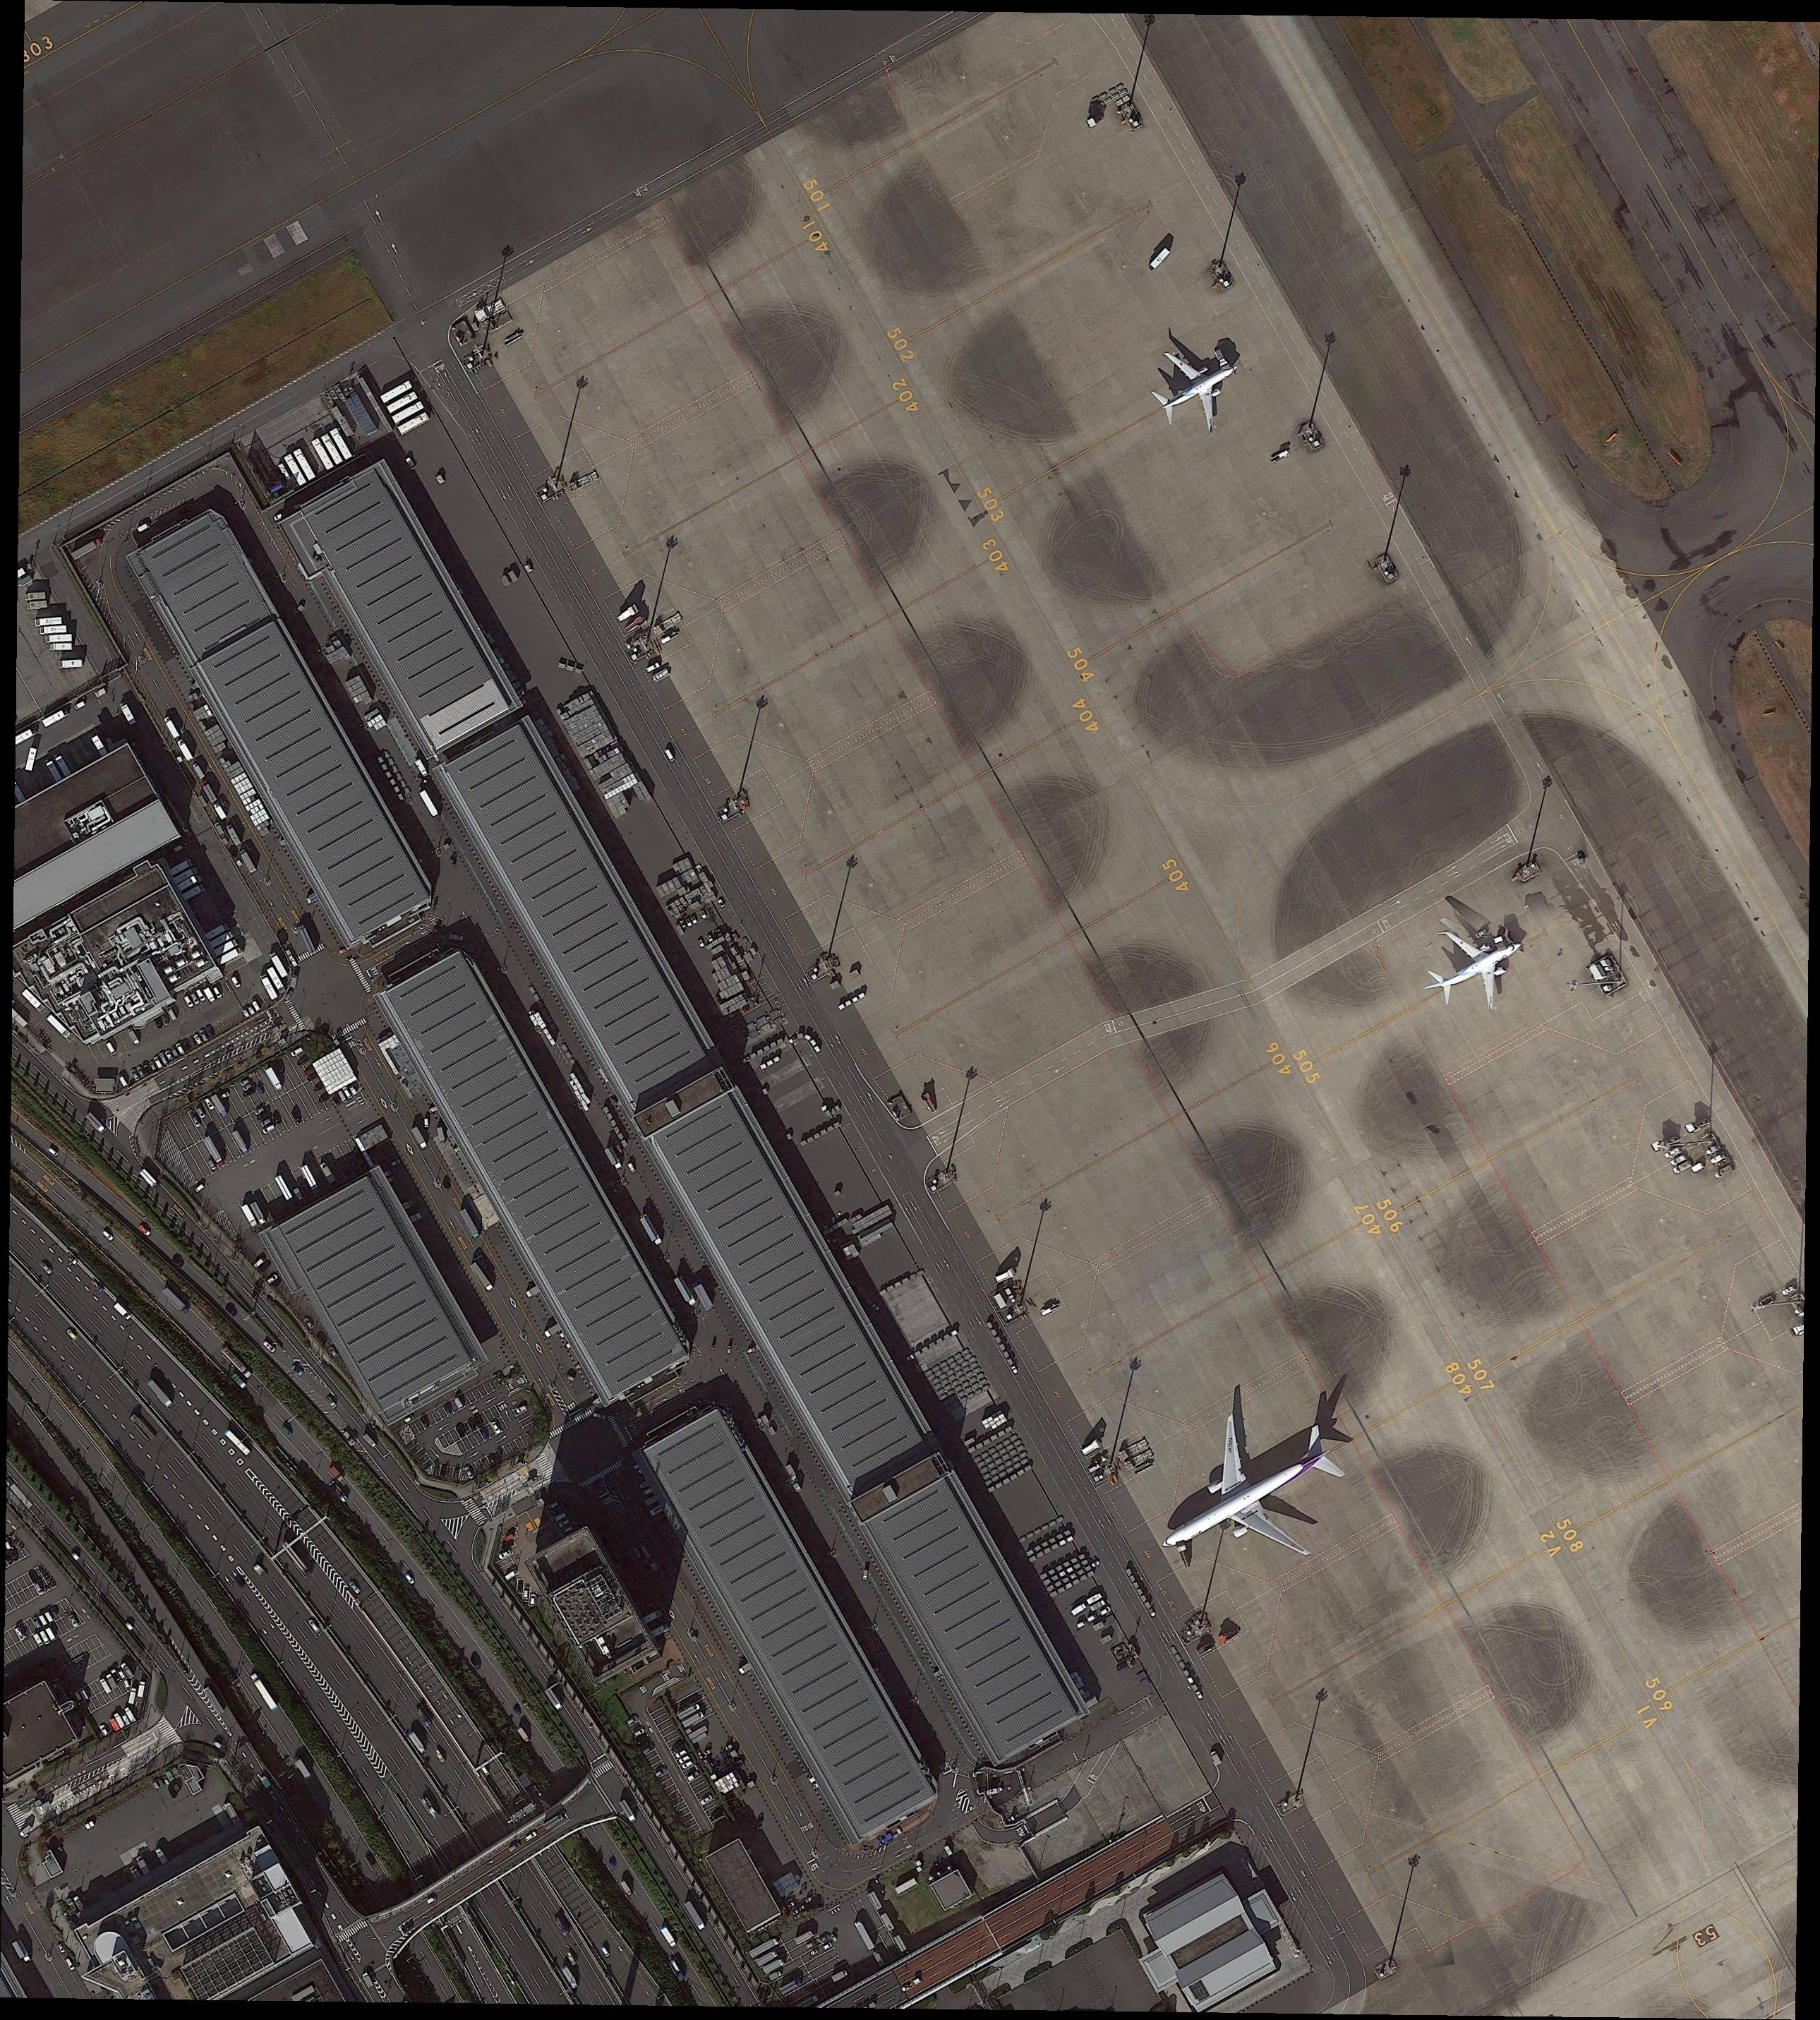plane: (1119, 1365, 1400, 1621), (1404, 892, 1546, 1038), (1124, 316, 1265, 458)
